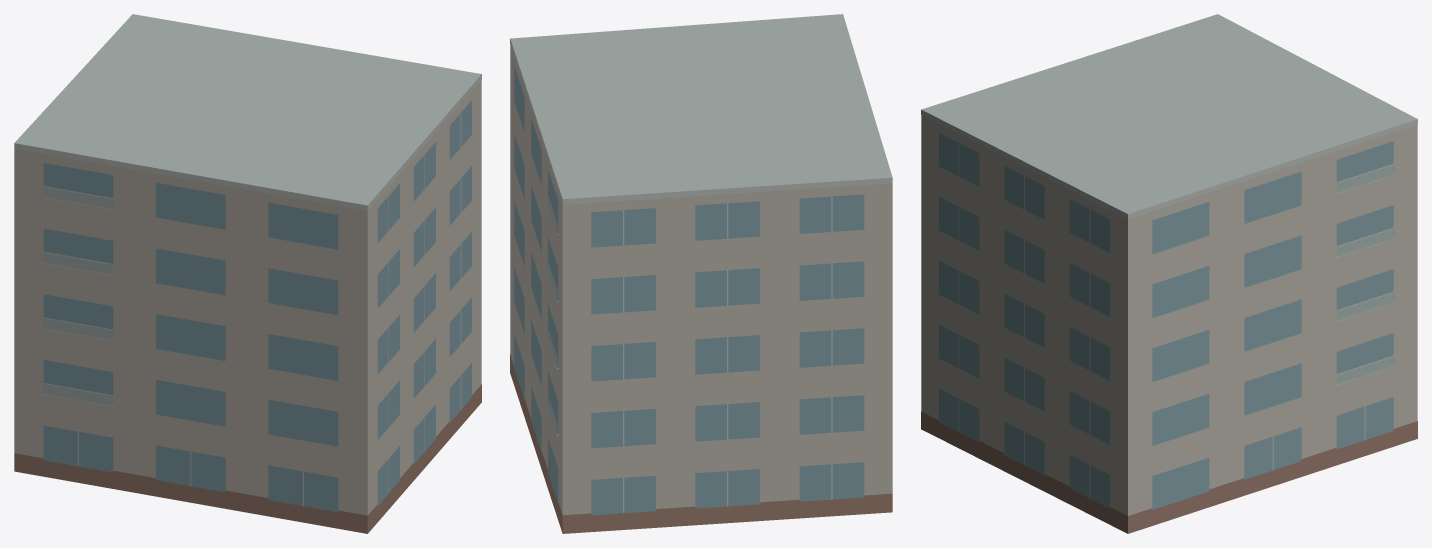
Rendered from survey-upis-32741722.glb.
3 renders of one model, left to right at view 1: azimuth 30°, elevation 25°; view 2: azimuth 150°, elevation 25°; view 3: azimuth 270°, elevation 25°, orthographic. The views are drawn at different scales.
Visible parts, largest first — view 1: survey-upis-32741722.tmp; view 2: survey-upis-32741722.tmp; view 3: survey-upis-32741722.tmp.
Boxes of the visible parts, <box> form: survey-upis-32741722.tmp: <box>14,14,481,533</box>; survey-upis-32741722.tmp: <box>510,14,892,533</box>; survey-upis-32741722.tmp: <box>921,14,1417,533</box>.
Bounding box in the file's own units: 19.75 × 14.7 × 20.7.
